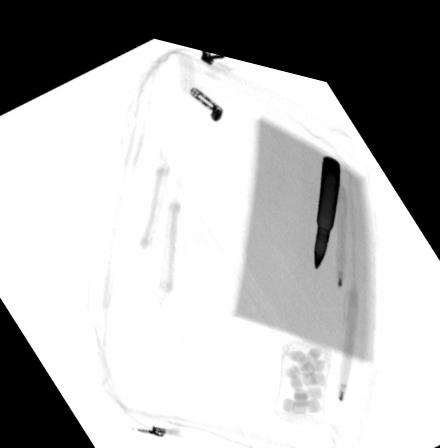Bullet: (312, 137, 340, 254)
